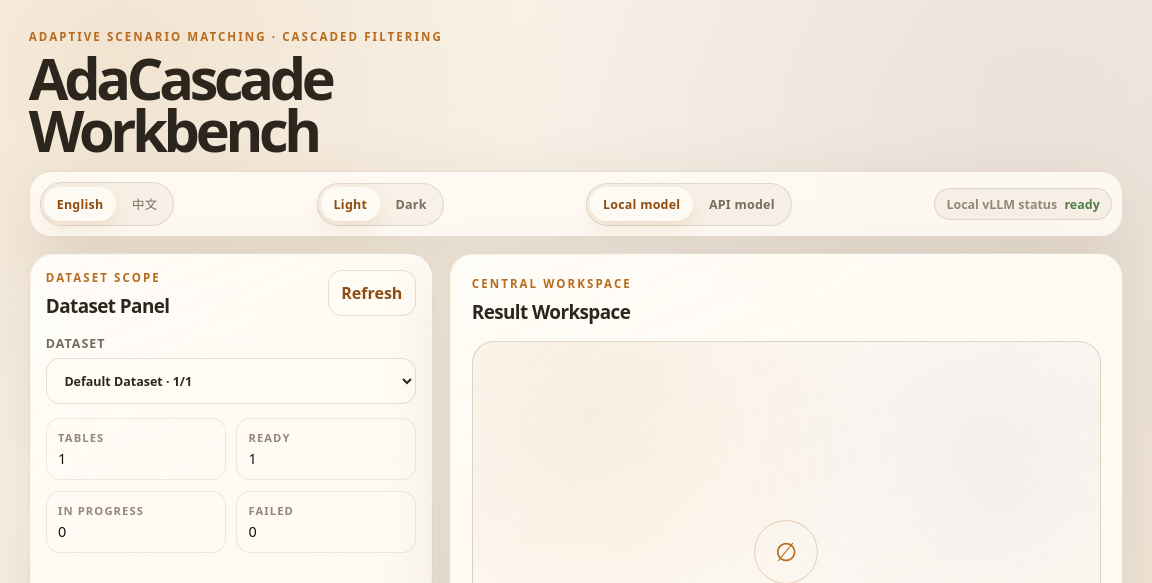
WorkspacePage › shows a runtime mutation error and preserves the previous selected backend
This screenshot has width=1152, height=583.
Click the button "API model". click: (742, 204)
box: [696,187,787,221]
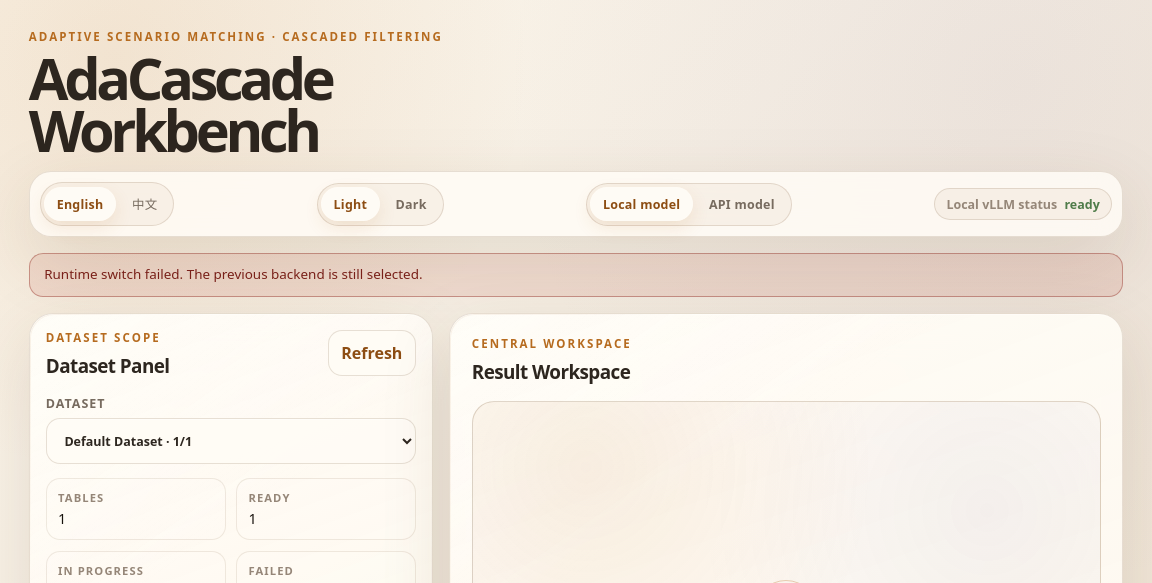
Expected: the button "Local model" is enabled, [590,187,693,221]
Expected: the message "Runtime switch failed. The previous backend is still selected." is shown, [29,253,1123,297]
